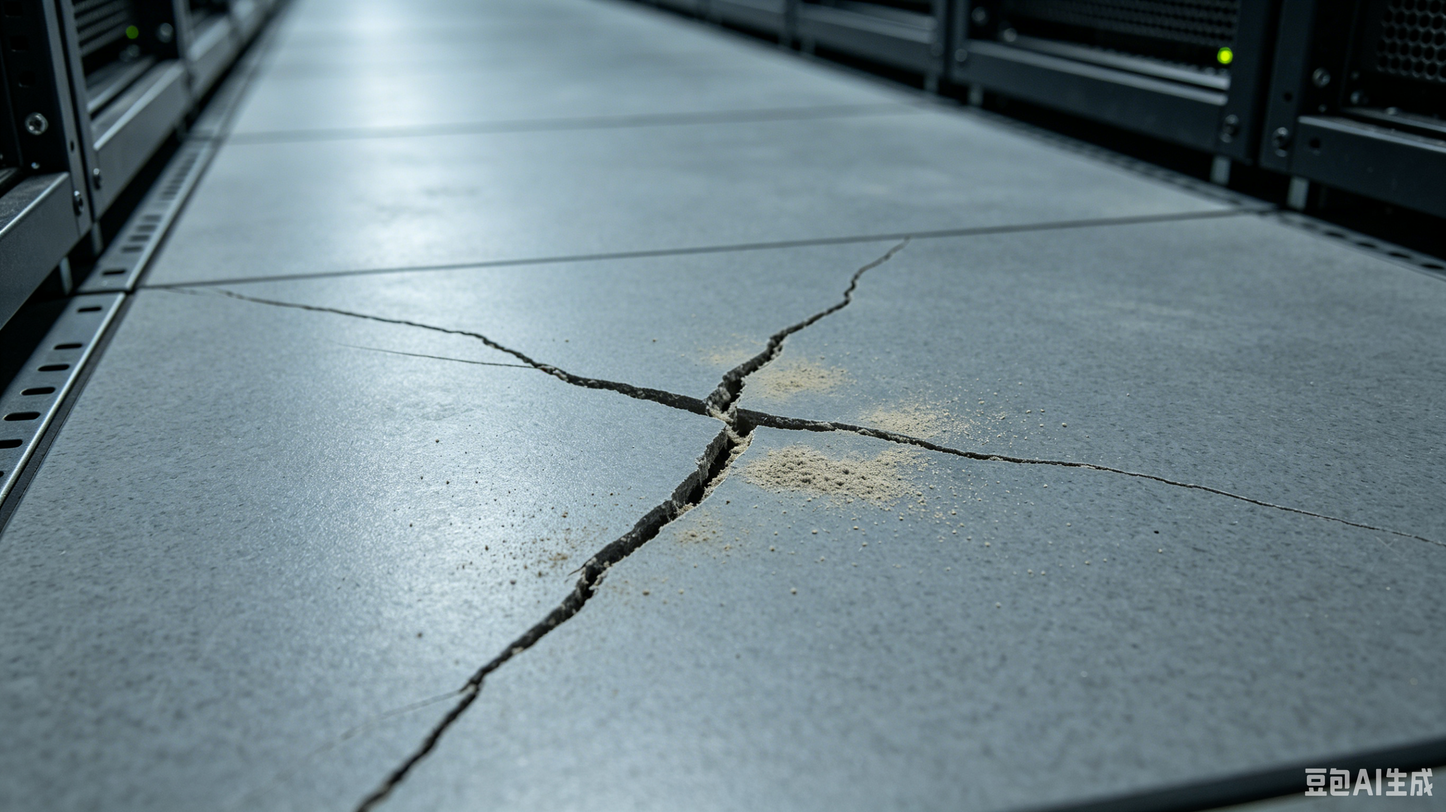floor_defect: (434, 306, 1043, 575), (1049, 435, 1441, 560), (450, 587, 622, 708), (171, 269, 425, 350), (372, 719, 497, 808), (849, 225, 916, 300)
